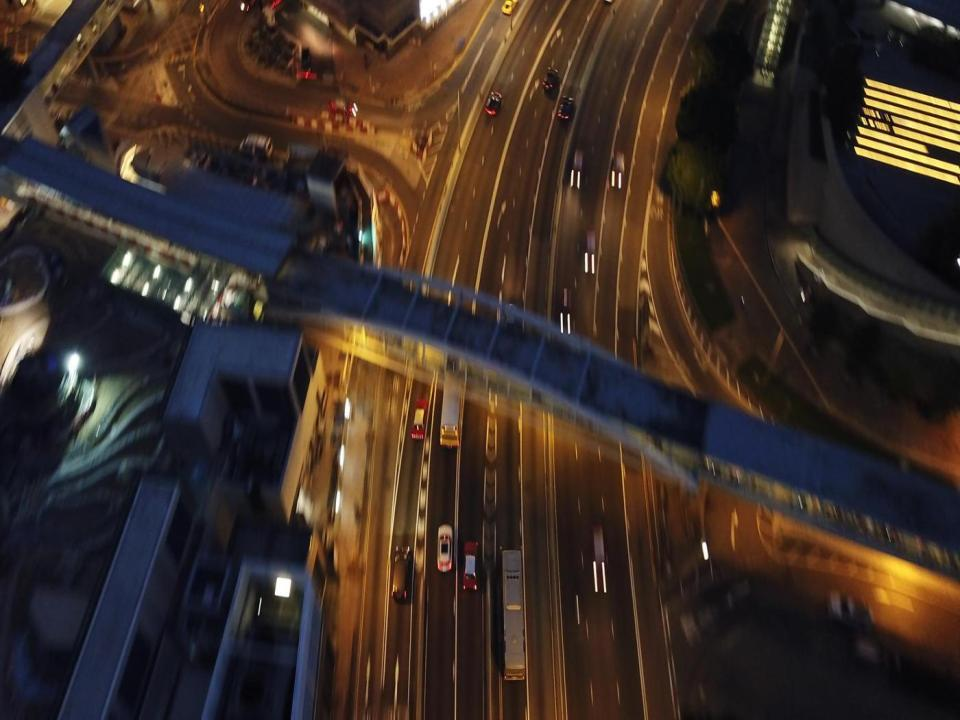bus: (501, 549, 525, 681)
car: (440, 350, 466, 446), (592, 525, 608, 591), (502, 303, 520, 353), (463, 541, 478, 590), (558, 288, 573, 336), (436, 525, 452, 570), (411, 399, 427, 438), (571, 145, 584, 190), (584, 228, 597, 273), (328, 99, 358, 117), (612, 150, 624, 188), (484, 91, 502, 115), (542, 68, 558, 90), (558, 96, 573, 118), (500, 0, 518, 14)
van: (825, 592, 875, 628), (391, 546, 409, 602)
